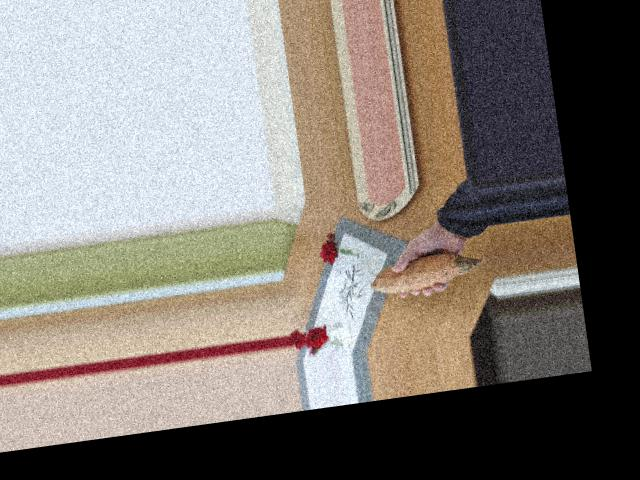sweet_potato: (363, 239, 478, 301)
